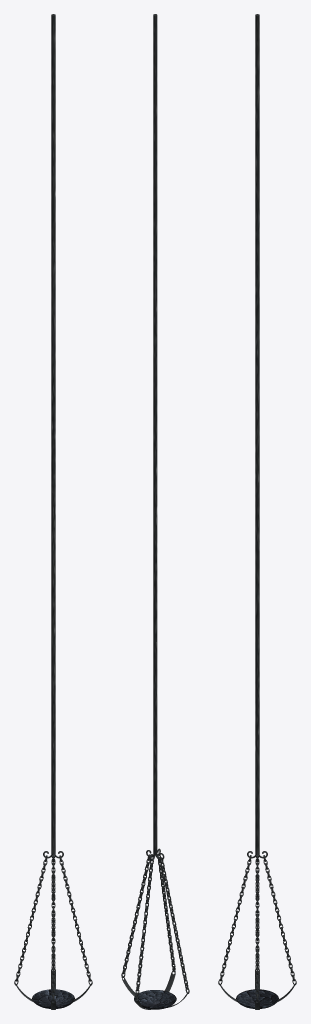
Rendered from lamp.glb.
The picture shows the model from 3 angles, left to right: view 1: azimuth 90°, elevation 25°; view 2: azimuth 150°, elevation 25°; view 3: azimuth 270°, elevation 25°; orthographic projection.
Parts seen in each view (by area): view 1: Cylinder.003, Sphere, Torus.017, Torus.002, Torus.003; view 2: Cylinder.003, Sphere, Torus.017, Torus.003, Torus.001, Torus.002; view 3: Cylinder.003, Sphere, Torus.001, Torus.002, Torus.003.
Part boxes in pixels (x1=…): Cylinder.003: x1=51, y1=14, x2=55, y2=854; Sphere: x1=32, y1=989, x2=74, y2=1008; Torus.017: x1=51, y1=859, x2=55, y2=1001; Torus.002: x1=59, y1=855, x2=92, y2=985; Torus.003: x1=14, y1=855, x2=47, y2=985; Cylinder.003: x1=153, y1=14, x2=157, y2=855; Sphere: x1=134, y1=990, x2=176, y2=1009; Torus.017: x1=160, y1=857, x2=189, y2=993; Torus.003: x1=135, y1=858, x2=153, y2=999; Torus.001: x1=121, y1=854, x2=150, y2=977; Torus.002: x1=157, y1=853, x2=175, y2=972; Cylinder.003: x1=255, y1=14, x2=259, y2=854; Sphere: x1=236, y1=989, x2=278, y2=1008; Torus.001: x1=255, y1=858, x2=259, y2=1000; Torus.002: x1=218, y1=855, x2=251, y2=984; Torus.003: x1=263, y1=855, x2=296, y2=984.
Bounding box in the file's own units: 3.59 × 50.1 × 3.59.
2 materials, 2 textured.
